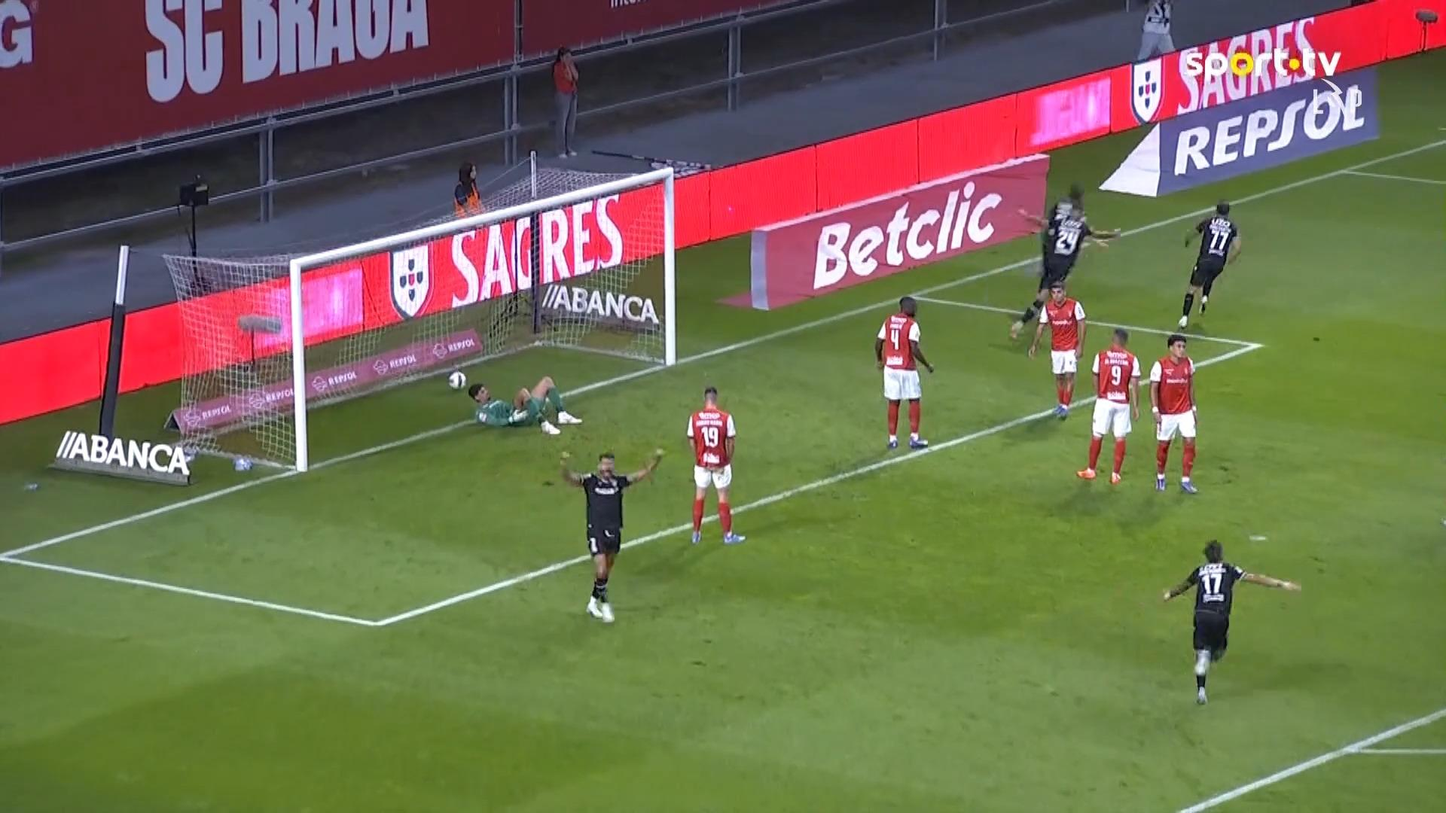ball: (447, 370, 465, 390)
goalkeeper: (466, 375, 581, 434)
player: (1161, 538, 1301, 705), (557, 446, 665, 623), (1008, 183, 1121, 340), (1075, 327, 1142, 483), (685, 385, 746, 544), (873, 295, 935, 449), (1176, 199, 1241, 330), (1027, 279, 1087, 419), (1148, 333, 1200, 494)
